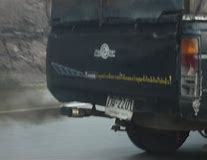smoke: (1, 75, 70, 126)
